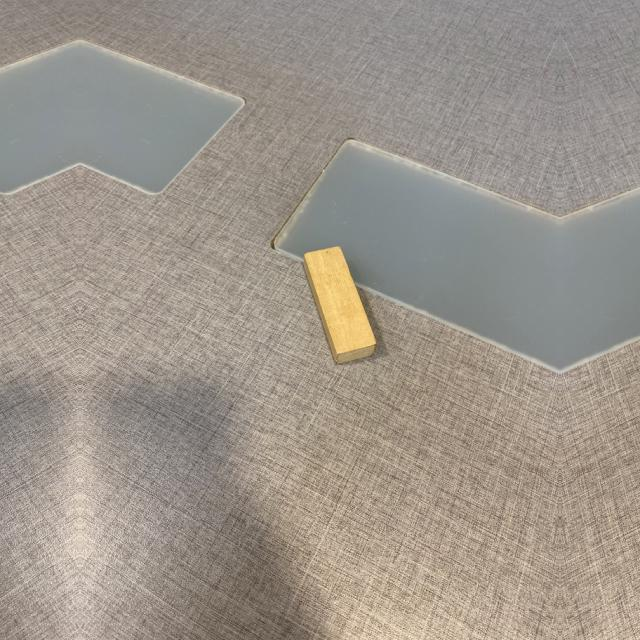jenga: (307, 245, 376, 356)
